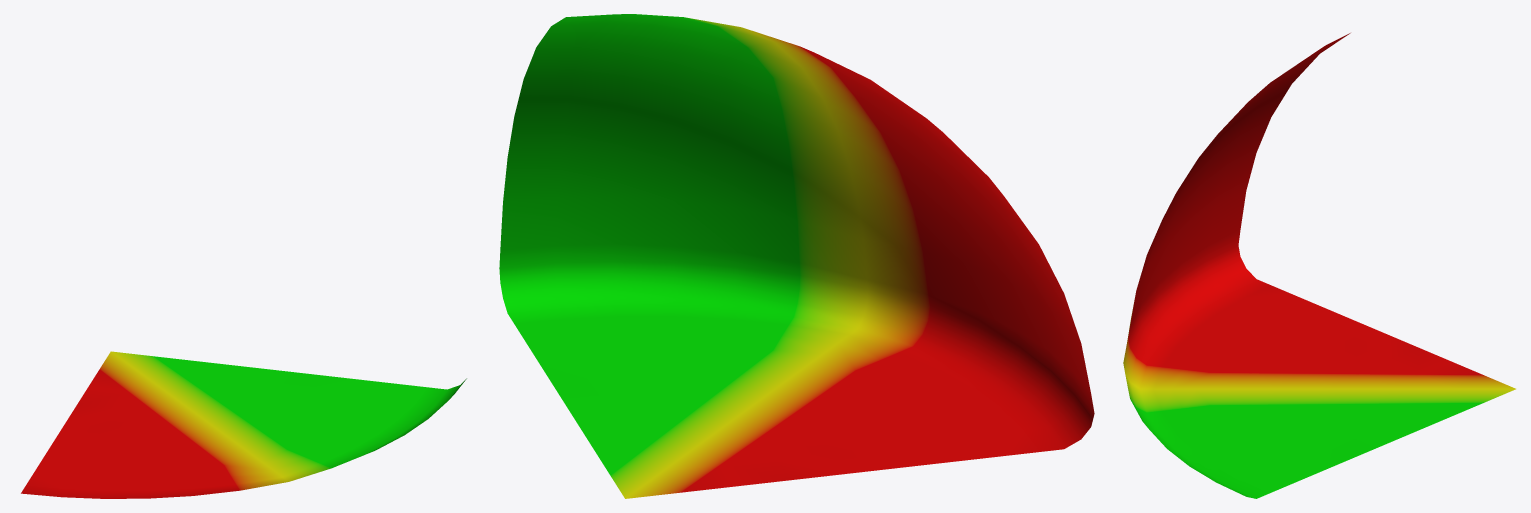
The model's file is Quadrant.gltf.
3 views of the same model, side by side, from view 1: azimuth 30°, elevation 25°; view 2: azimuth 150°, elevation 25°; view 3: azimuth 270°, elevation 25° (orthographic). The views are drawn at different scales.
Parts seen in each view (by area): view 1: Roundcube; view 2: Roundcube; view 3: Roundcube.
Boxes of the visible parts, x1,y1,x2,y2 form: Roundcube: (21,351,466,498); Roundcube: (499,14,1094,498); Roundcube: (1123,33,1515,498).
Size of the model in its own units: 15.94 by 11.27 by 11.27.
